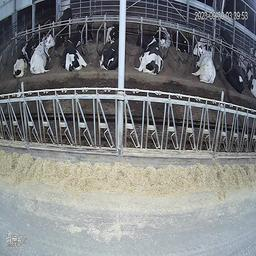cow: (135, 30, 164, 74), (56, 32, 87, 70), (28, 34, 55, 74), (189, 46, 217, 84), (222, 49, 244, 93), (155, 17, 171, 54), (98, 39, 118, 68), (12, 44, 29, 77), (171, 29, 191, 54), (57, 5, 73, 36), (74, 19, 93, 45), (196, 32, 213, 57), (105, 21, 118, 45)
